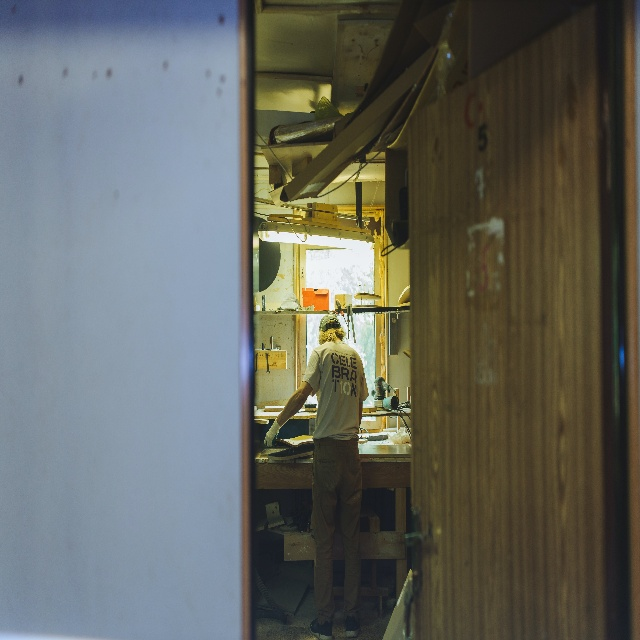Guantes: (264, 417, 281, 449)
